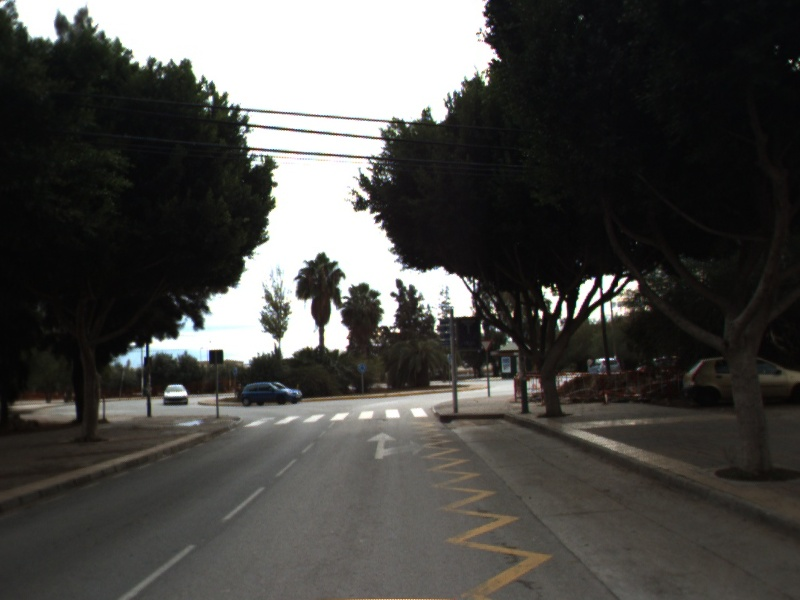STRAIGHT_RIGHT: (364, 430, 427, 461)
